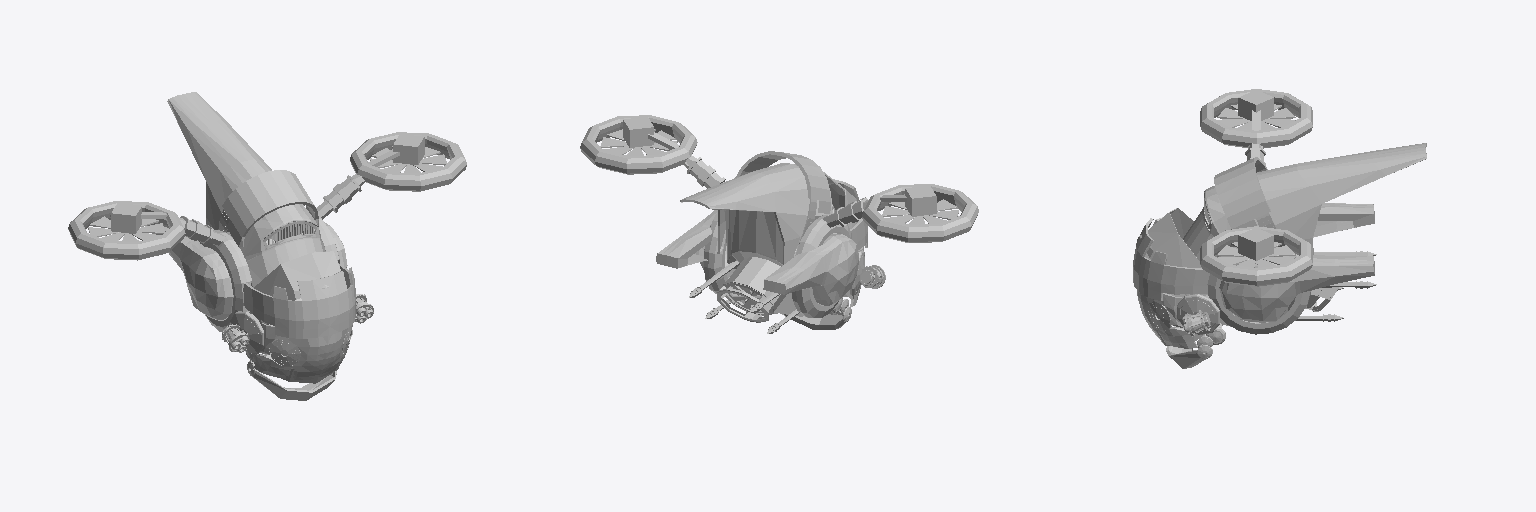
Rendered from drone.obj.
3 renders of one model, left to right at view 1: azimuth 30°, elevation 25°; view 2: azimuth 150°, elevation 25°; view 3: azimuth 270°, elevation 25°, orthographic.
Parts seen in each view (by area): view 1: uploads_files_[number redacted]_Battle_Drone; view 2: uploads_files_[number redacted]_Battle_Drone; view 3: uploads_files_[number redacted]_Battle_Drone.
Boxes of the visible parts, x1,y1,x2,y2 form: uploads_files_[number redacted]_Battle_Drone: [68, 92, 466, 400]; uploads_files_[number redacted]_Battle_Drone: [580, 115, 978, 333]; uploads_files_[number redacted]_Battle_Drone: [1133, 89, 1426, 368].
Size of the model in its own units: 15.6 by 8.43 by 10.35.